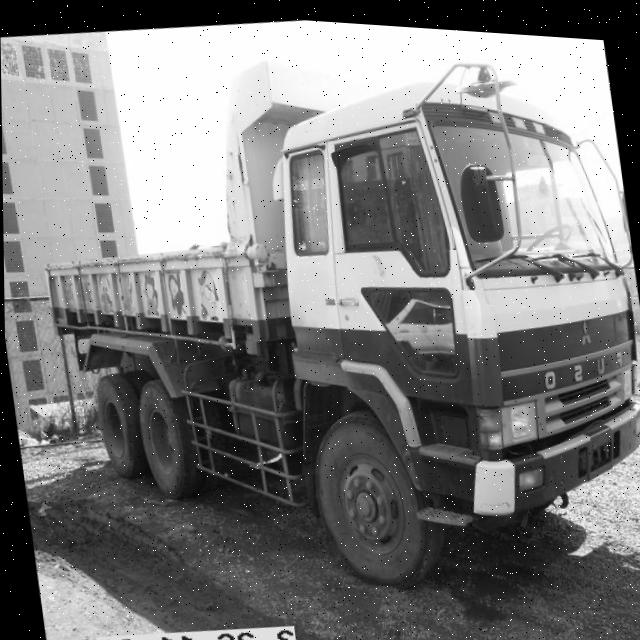truck: (204, 39, 640, 572)
